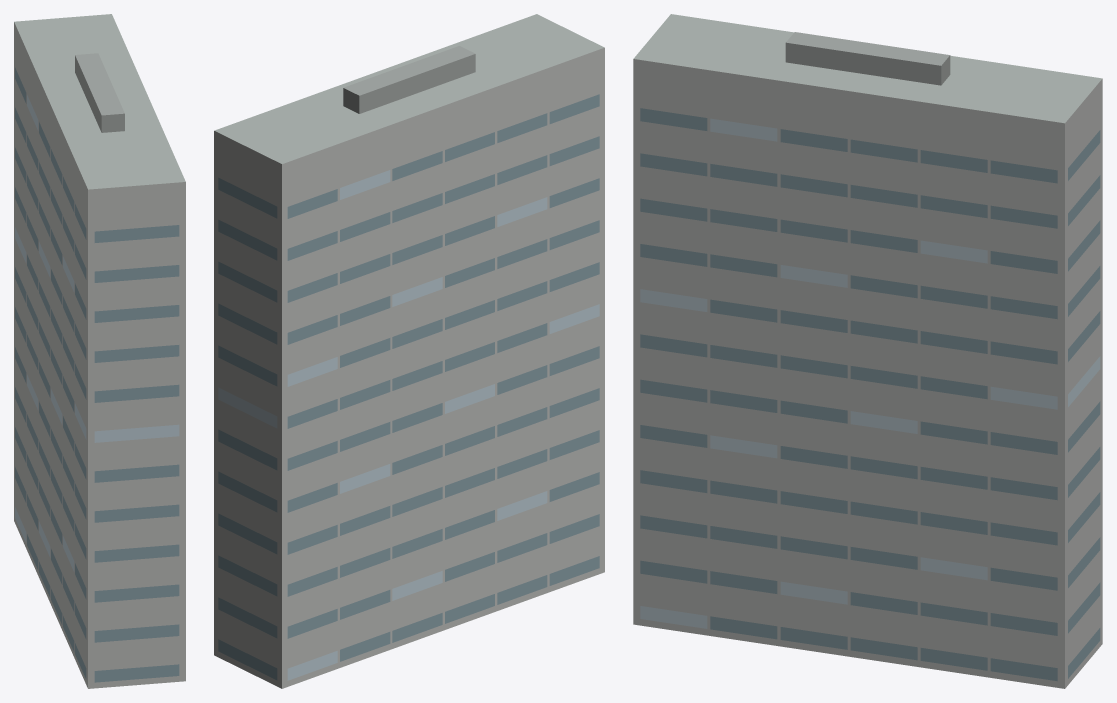
File: fallback-jamsil-els-140.glb
3 views of the same model, side by side, from view 1: azimuth 30°, elevation 25°; view 2: azimuth 150°, elevation 25°; view 3: azimuth 270°, elevation 25° (orthographic). The views are drawn at different scales.
Visible parts, largest first — view 1: fallback-jamsil-els-140; view 2: fallback-jamsil-els-140; view 3: fallback-jamsil-els-140.
Part boxes in pixels (x1,y1,x2,y2): fallback-jamsil-els-140: (14,14,185,688); fallback-jamsil-els-140: (214,14,604,688); fallback-jamsil-els-140: (633,14,1102,688).
Bounding box in the file's own units: 28.44 × 71 × 51.58.
